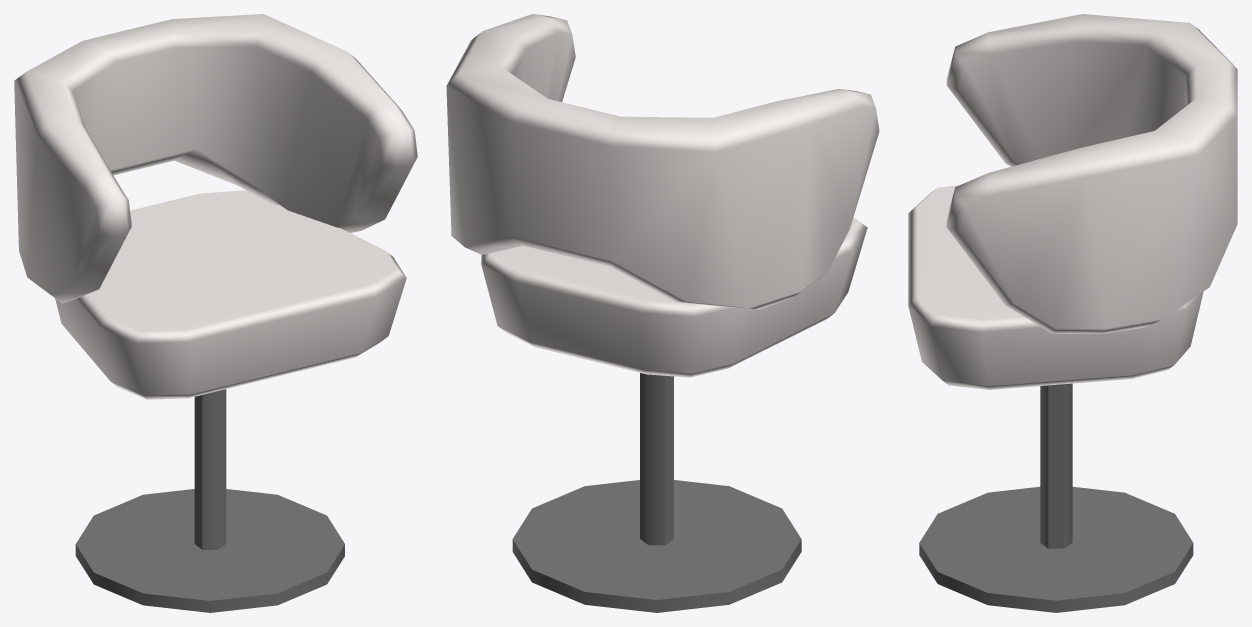
File: lounge_chair_008.glb
The picture shows the model from 3 angles, left to right: view 1: azimuth 30°, elevation 25°; view 2: azimuth 150°, elevation 25°; view 3: azimuth 270°, elevation 25°; orthographic projection. The views are drawn at different scales.
Parts seen in each view (by area): view 1: lounge_chair_008; view 2: lounge_chair_008; view 3: lounge_chair_008.
Boxes of the visible parts, x1=… form: lounge_chair_008: x1=14, y1=14, x2=417, y2=612; lounge_chair_008: x1=446, y1=14, x2=879, y2=612; lounge_chair_008: x1=908, y1=14, x2=1237, y2=612.
Bounding box in the file's own units: 0.7807 × 1.09 × 0.6865.
1 material, 1 textured.
